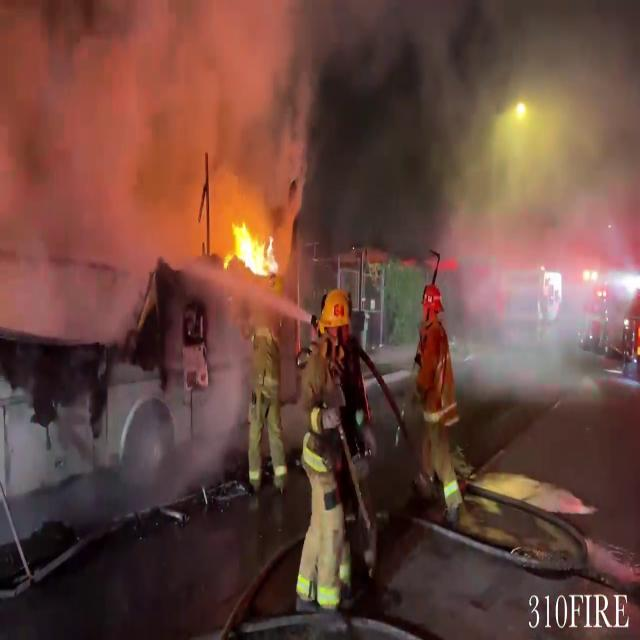Fire: (222, 212, 282, 288)
Smoke: (0, 0, 607, 311)
